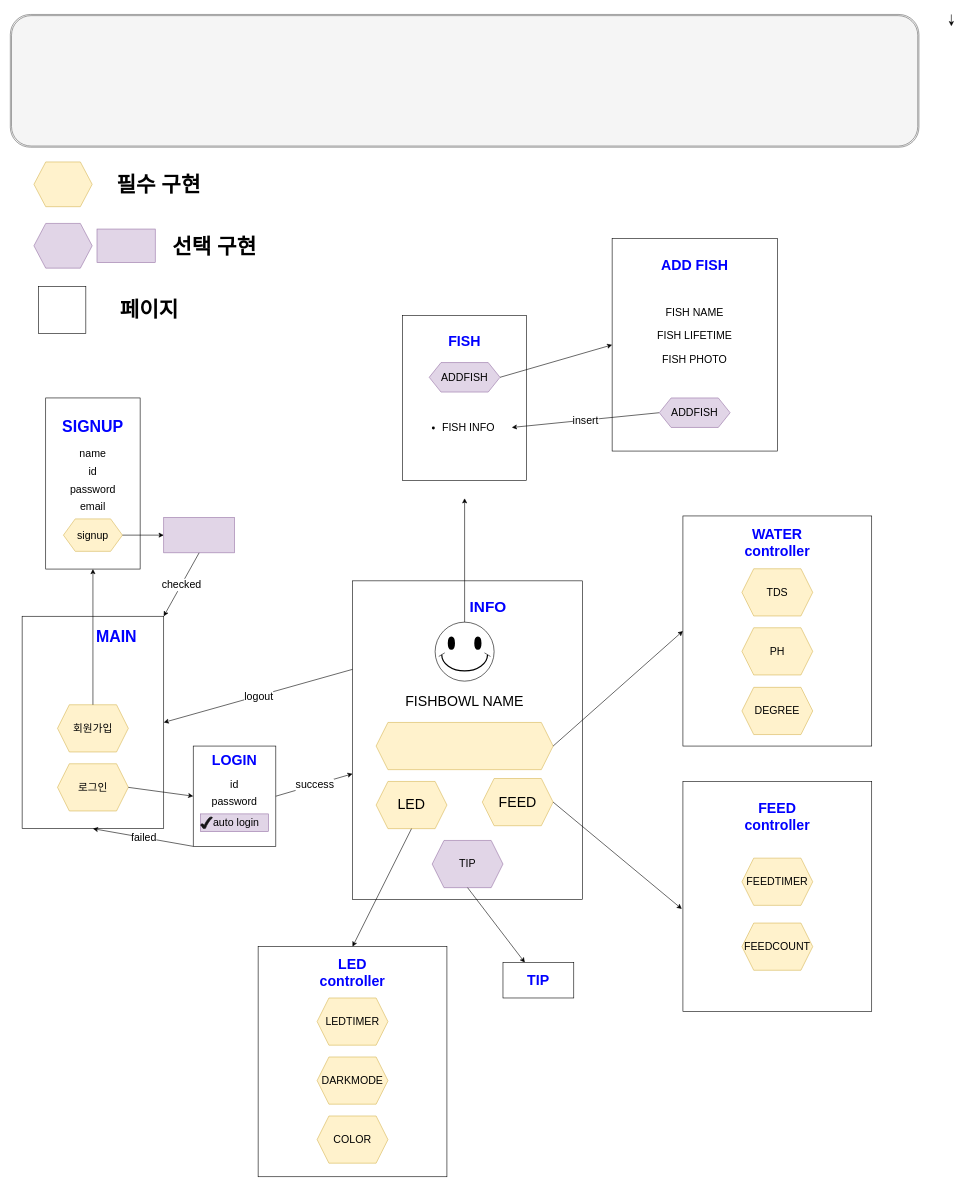
This 966x1187 diagram has some shape labels left out. Each missing label, with the centre of its shape:
EMAILCHECK: the point at 199,535
Fish bowl project: the point at 464,80
WATER: the point at 464,746
